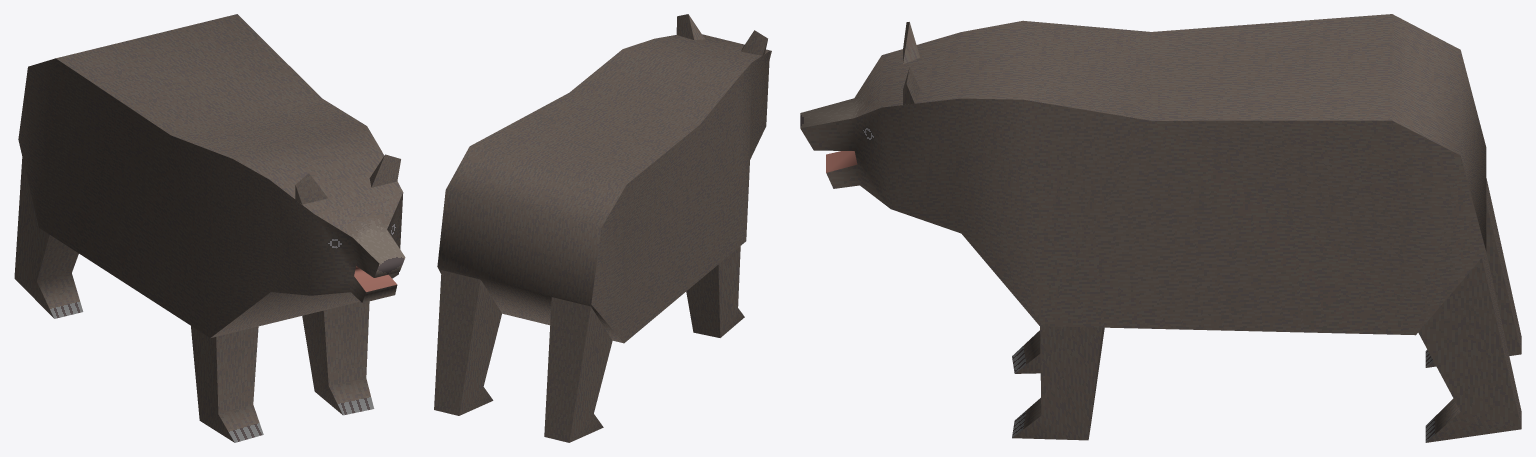
File: 01d7_Big_Bear.glb
The picture shows the model from 3 angles, left to right: view 1: azimuth 30°, elevation 25°; view 2: azimuth 150°, elevation 25°; view 3: azimuth 270°, elevation 25°; orthographic projection. The views are drawn at different scales.
Parts seen in each view (by area): view 1: part_0; view 2: part_0; view 3: part_0.
Part boxes in pixels (x1,y1,x2,y2): part_0: [14, 14, 405, 442]; part_0: [434, 14, 771, 442]; part_0: [800, 14, 1521, 442].
Bounding box in the file's own units: 1.15 × 1.64 × 3.04.
1 material, 1 textured.
